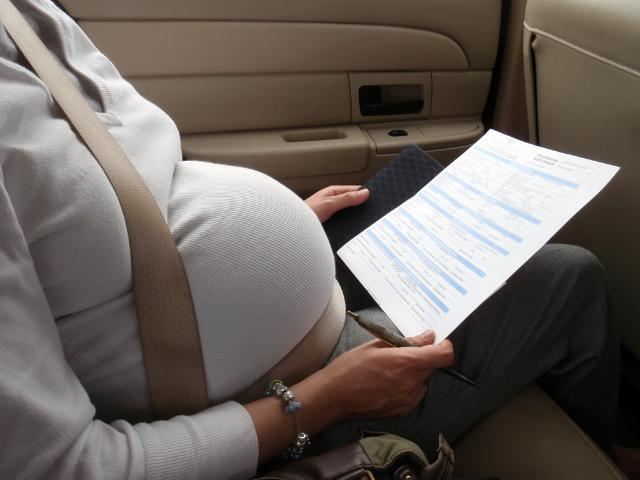Seatbelt: (0, 0, 346, 420)
